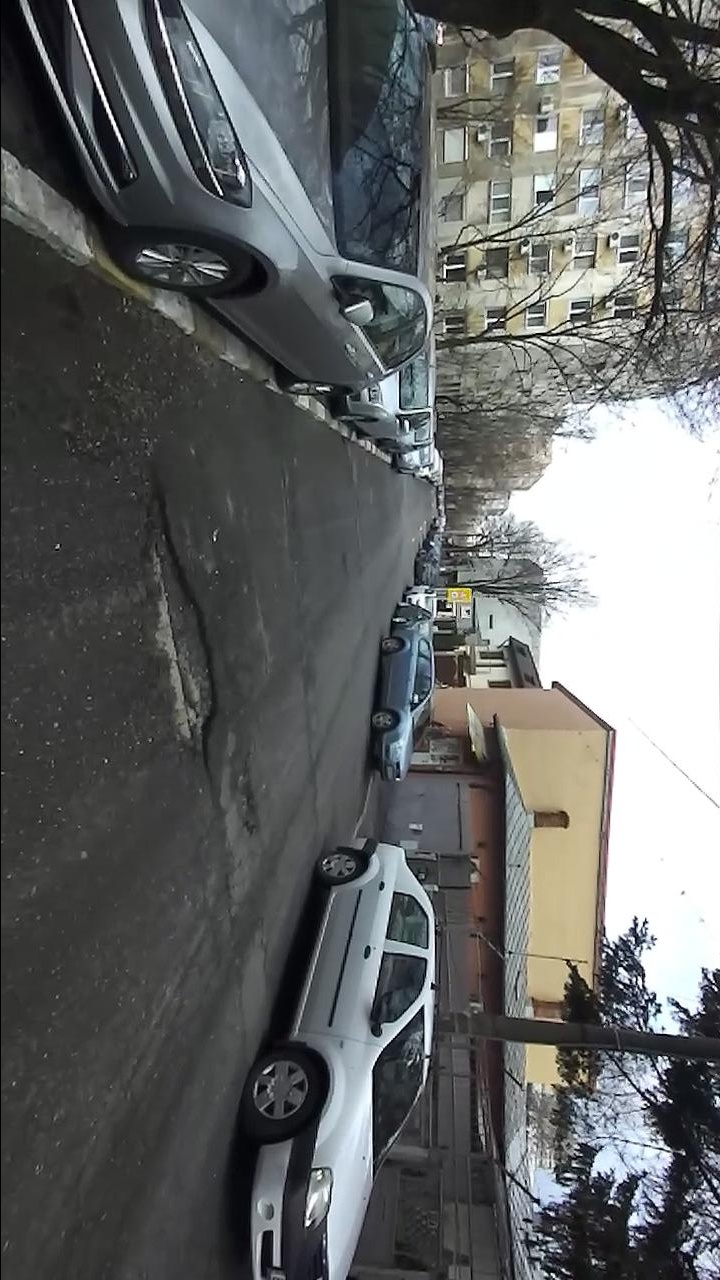pothole: (131, 477, 222, 786), (235, 760, 267, 841)
